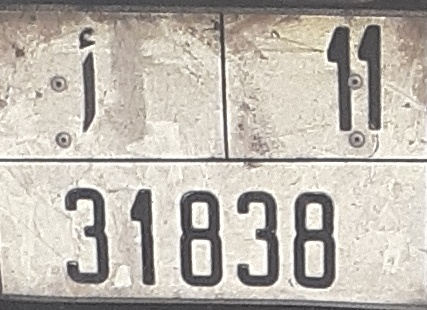1: (320, 22, 356, 135), (355, 23, 385, 136), (129, 185, 158, 286)
3: (60, 186, 113, 287), (234, 187, 281, 289)
8: (292, 189, 339, 291), (177, 188, 225, 287)
a: (68, 23, 106, 137)
